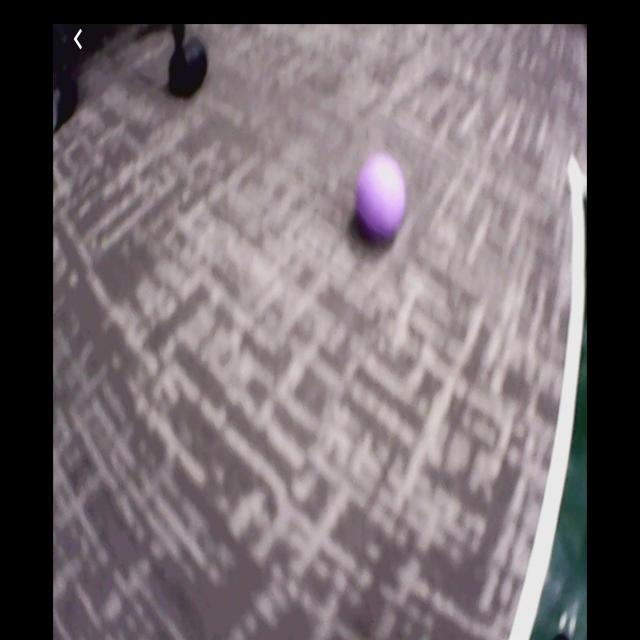ball: (358, 156, 406, 236)
